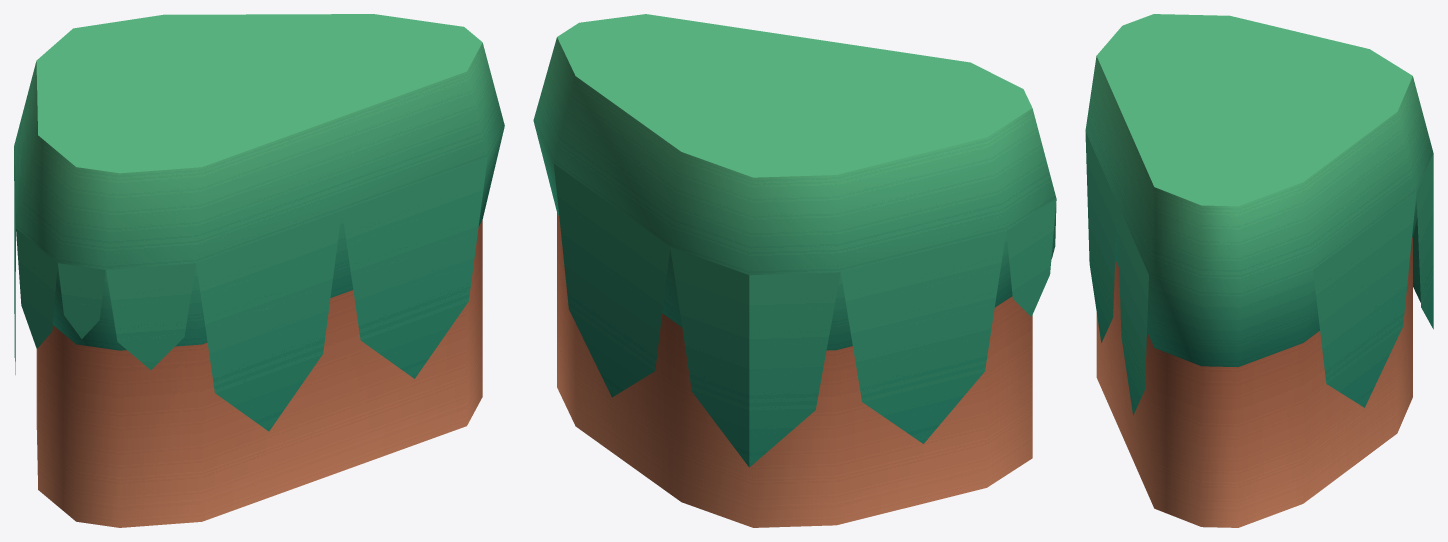
Rendered from block-grass-corner-overhang-low.007_lev2.glb.
The picture shows the model from 3 angles, left to right: view 1: azimuth 30°, elevation 25°; view 2: azimuth 150°, elevation 25°; view 3: azimuth 270°, elevation 25°; orthographic projection. The views are drawn at different scales.
Visible parts, largest first — view 1: block-grass-corner-overhang-low.007_lev2; view 2: block-grass-corner-overhang-low.007_lev2; view 3: block-grass-corner-overhang-low.007_lev2.
Boxes of the visible parts, bbox=[...] form: block-grass-corner-overhang-low.007_lev2: bbox=[14, 14, 504, 527]; block-grass-corner-overhang-low.007_lev2: bbox=[533, 14, 1056, 527]; block-grass-corner-overhang-low.007_lev2: bbox=[1085, 14, 1433, 527].
Size of the model in its own units: 2.46 by 1.74 by 1.71.
1 material, 1 textured.
